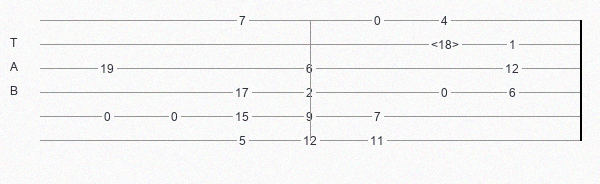0: (104, 110, 115, 123), (171, 110, 182, 123), (374, 14, 385, 27), (441, 86, 452, 99)
1: (509, 38, 520, 51)
11: (370, 134, 388, 147)
12: (303, 134, 321, 147), (505, 62, 523, 75)
15: (235, 110, 253, 123)
17: (235, 86, 253, 99)
19: (100, 62, 118, 75)
2: (306, 86, 317, 99)
4: (441, 14, 452, 27)
5: (239, 134, 250, 147)
6: (306, 62, 317, 75), (509, 86, 520, 99)
7: (239, 14, 250, 27), (374, 110, 385, 123)
9: (306, 110, 317, 123)
harmonic: (431, 38, 463, 51)
